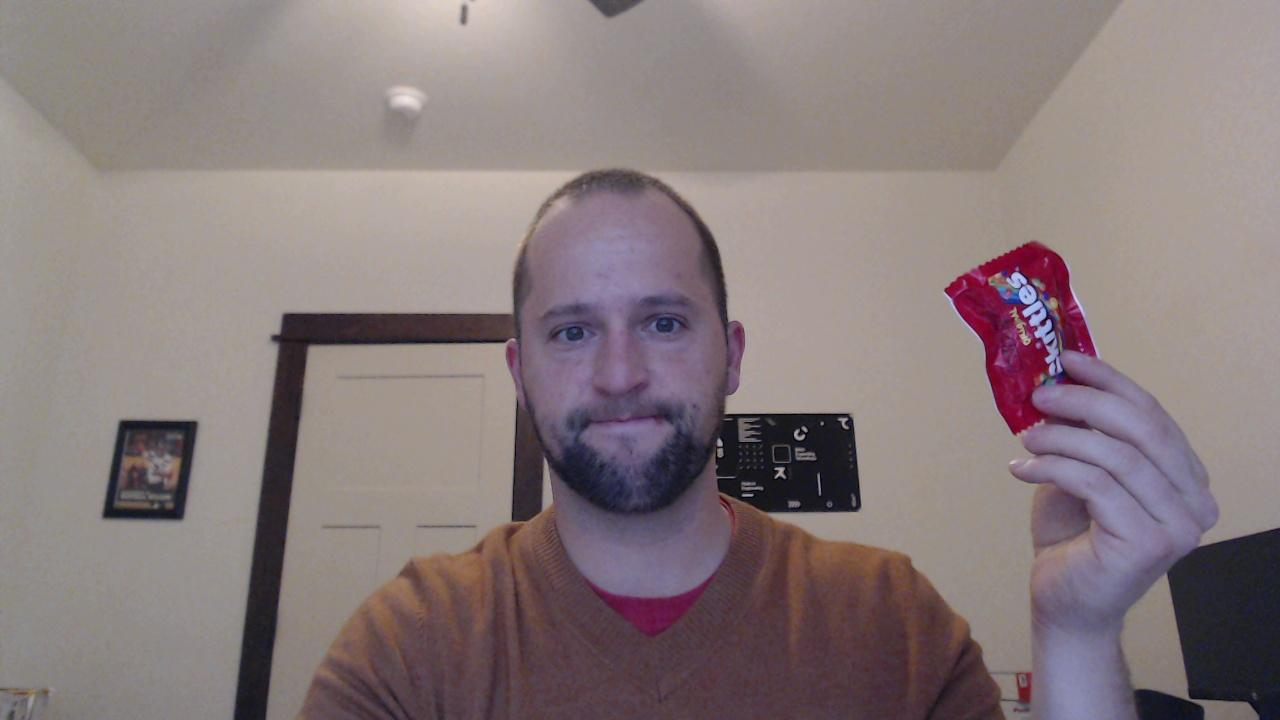skittles: (944, 242, 1099, 440)
